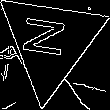N_E: (24, 19, 77, 65)
